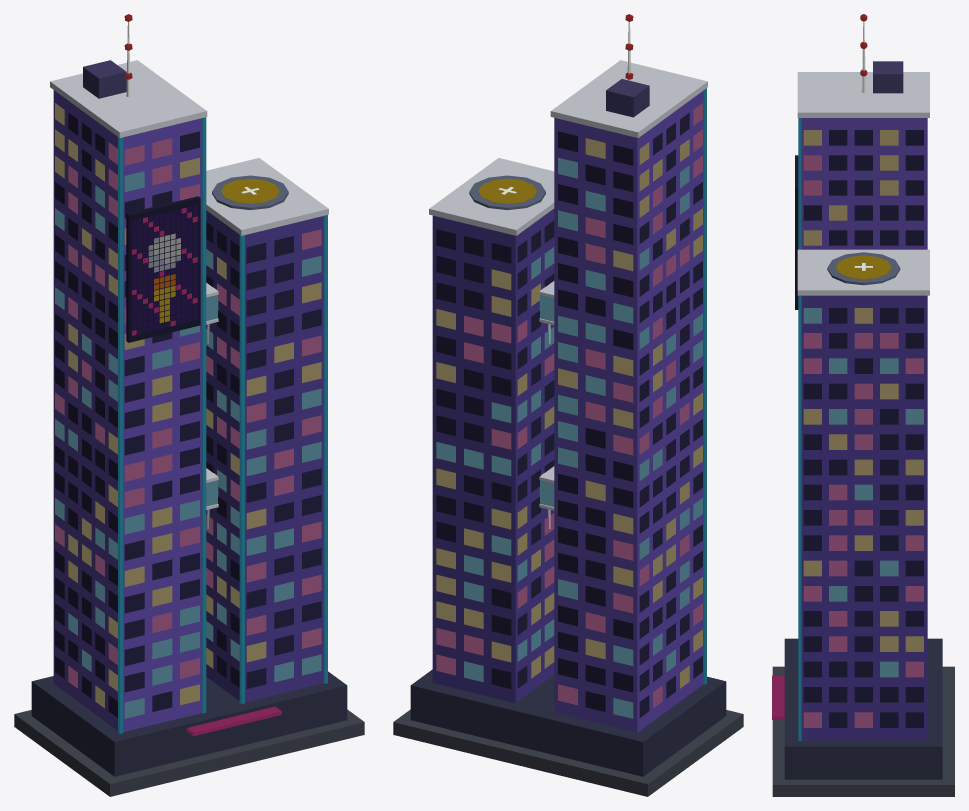
File: skyscraper-3.glb
3 views of the same model, side by side, from view 1: azimuth 30°, elevation 25°; view 2: azimuth 150°, elevation 25°; view 3: azimuth 270°, elevation 25° (orthographic). The views are drawn at different scales.
Visible parts, largest first — view 1: skyscraper-3; view 2: skyscraper-3; view 3: skyscraper-3.
Boxes of the visible parts, bbox=[...] form: skyscraper-3: bbox=[14, 14, 364, 796]; skyscraper-3: bbox=[393, 14, 743, 796]; skyscraper-3: bbox=[772, 14, 954, 796].
Size of the model in its own units: 46 by 126 by 30.1.
Materials: 2 (2 with a texture image).
